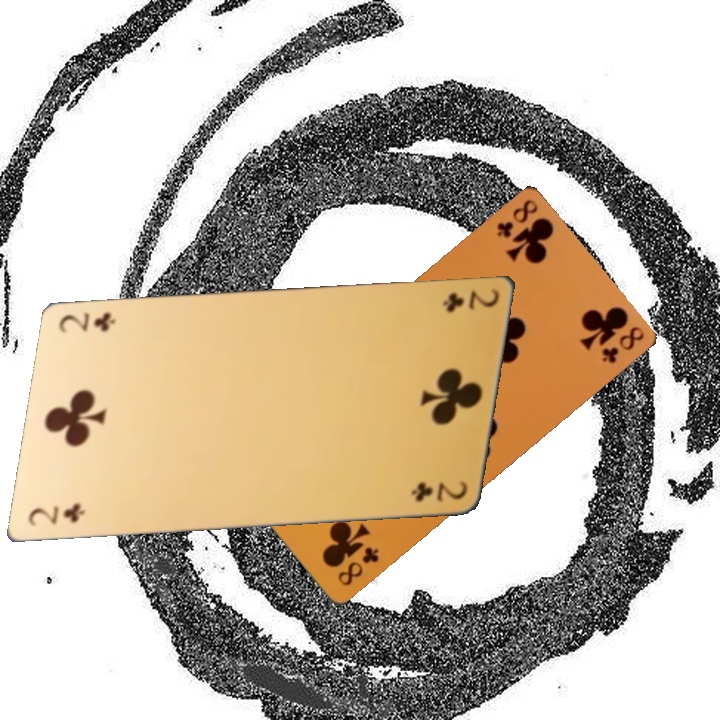2c: (431, 287, 502, 315), (400, 479, 471, 507), (49, 310, 119, 338), (18, 502, 88, 530)
8c: (484, 195, 543, 249), (327, 540, 385, 594), (588, 322, 646, 376)
